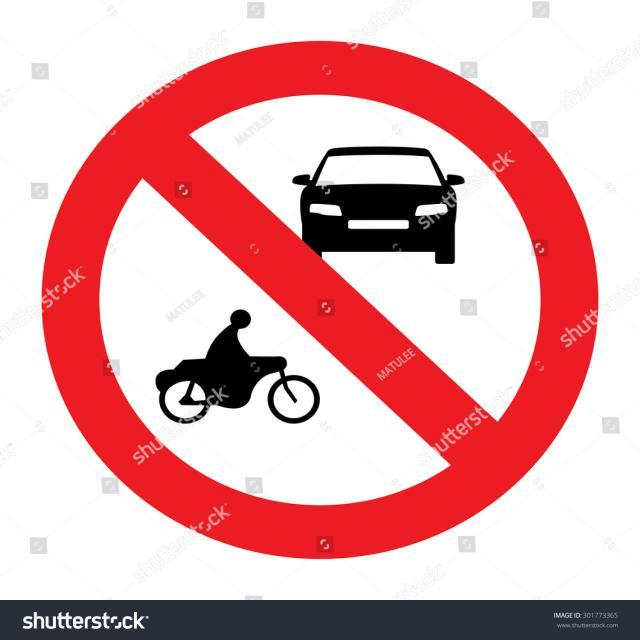all motor vehicle prohibited: (43, 39, 597, 558)
